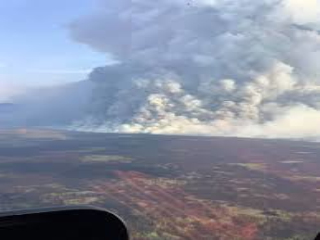smoke: (78, 32, 291, 142)
